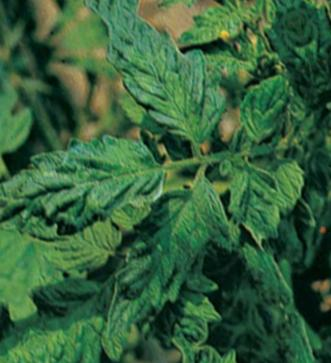Tomato leaf mosaic virus: (68, 167, 257, 337), (0, 113, 174, 273), (93, 0, 236, 164), (17, 264, 145, 363), (212, 146, 291, 257), (223, 74, 305, 156)
